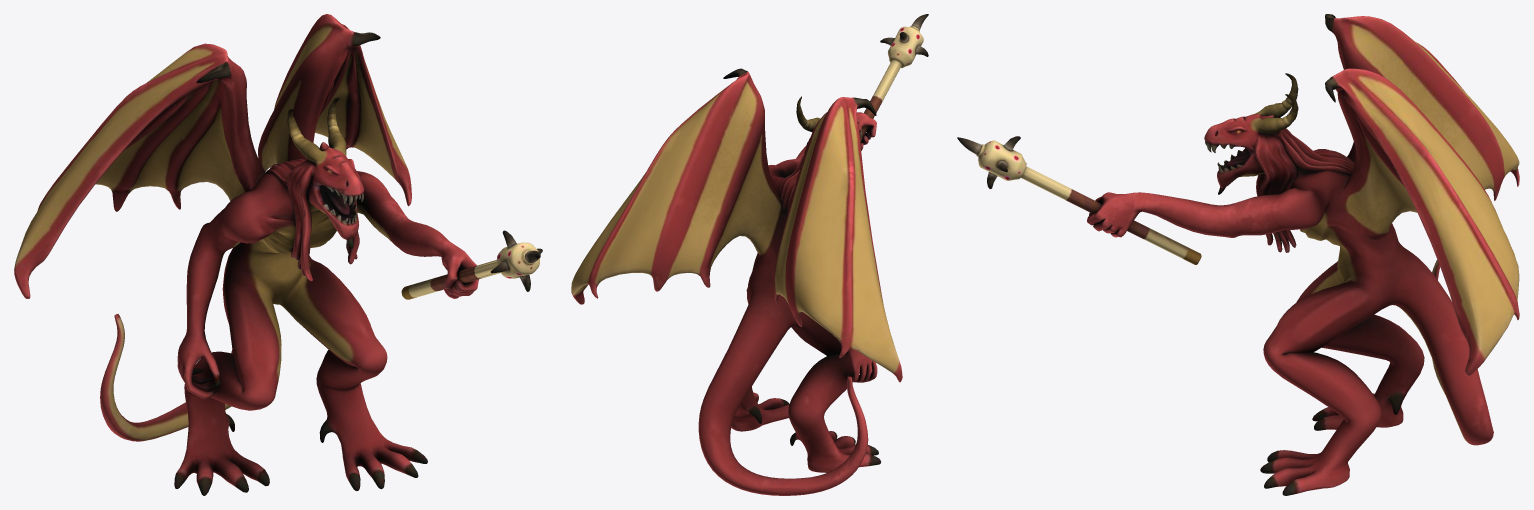
Rendered from MZ4250 - Red Abishai.glb.
3 renders of one model, left to right at view 1: azimuth 30°, elevation 25°; view 2: azimuth 150°, elevation 25°; view 3: azimuth 270°, elevation 25°, orthographic. The views are drawn at different scales.
Parts seen in each view (by area): view 1: Red Abishai.001; view 2: Red Abishai.001; view 3: Red Abishai.001.
Part boxes in pixels (bbox=[...]): Red Abishai.001: bbox=[14, 14, 542, 495]; Red Abishai.001: bbox=[571, 14, 928, 495]; Red Abishai.001: bbox=[957, 14, 1519, 495].
Size of the model in its own units: 35.93 by 37.58 by 47.3.
1 material, 1 textured.
